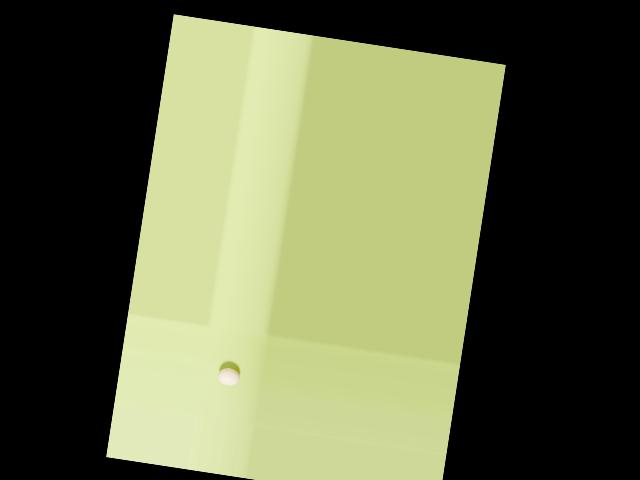egg: (217, 366, 241, 386)
